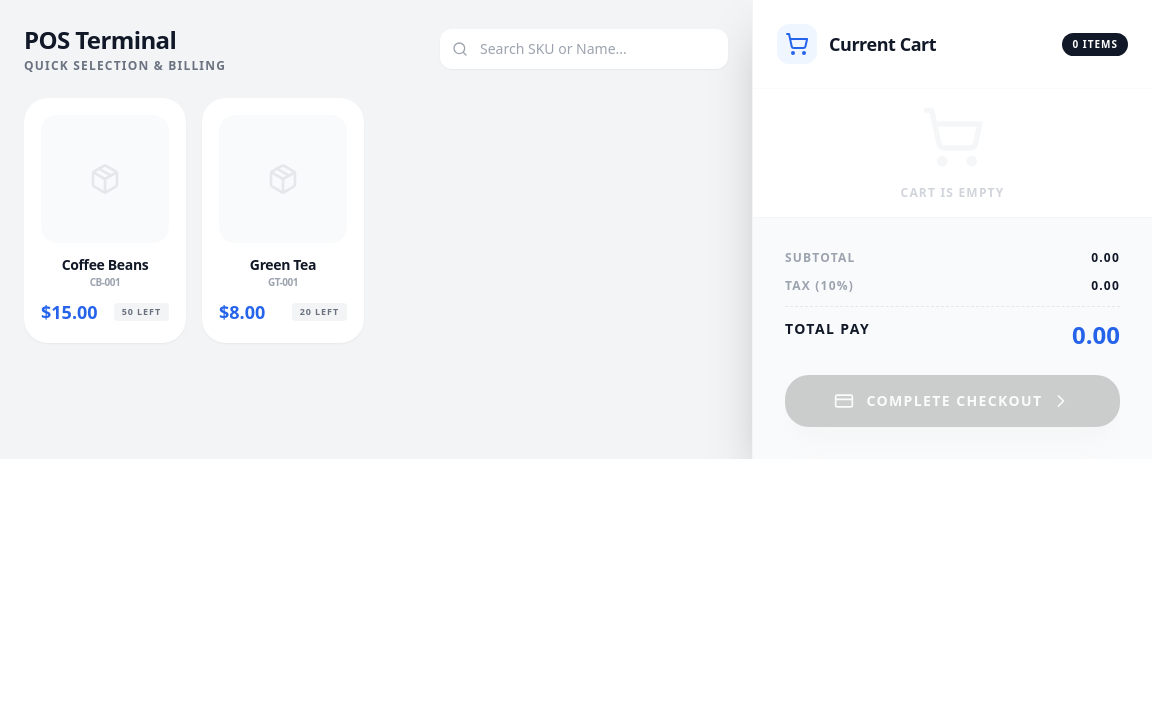
Test: POSPage — Story 10.2: POS Interface UI › shows checkout modal when checkout button is clicked
Check: the heading "Coffee Beans" is shown, box x1=62 y1=255 x2=148 y2=274
What coordinates should you click on to do the following:
click the text "Coffee Beans"
I would click on:
 (105, 220)
Its box is x1=24 y1=98 x2=186 y2=343.
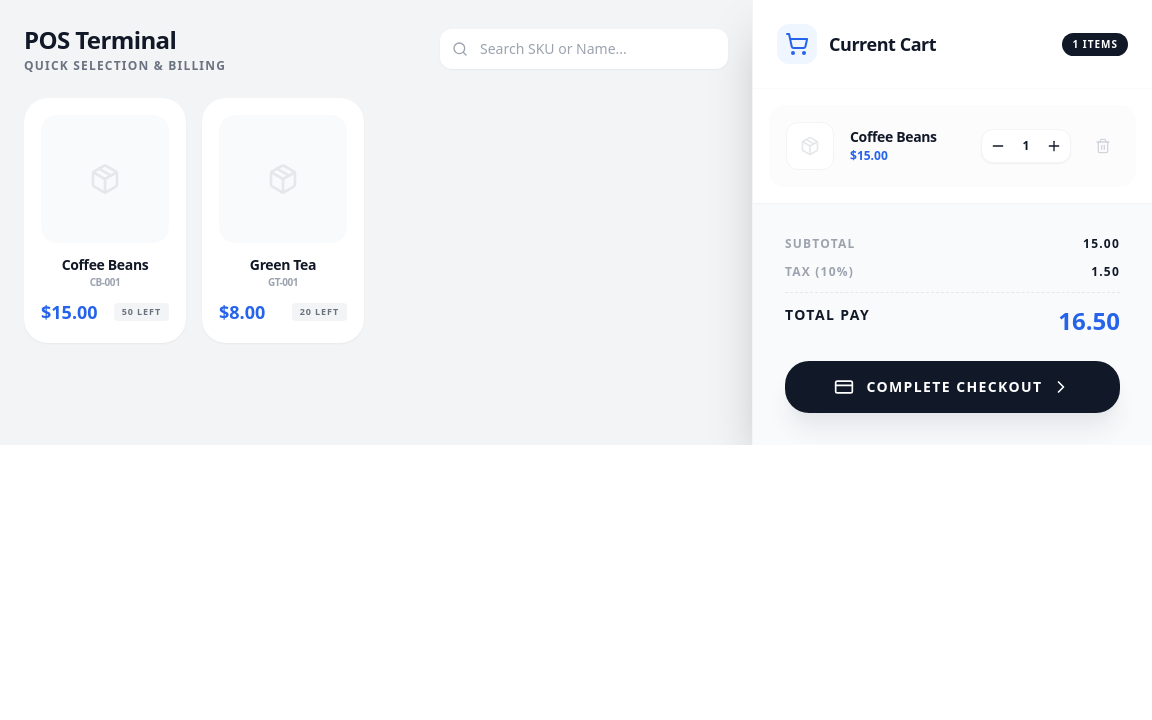
What coordinates should you click on to do the following:
click the button "Complete Checkout"
I would click on:
 (952, 387)
Its box is x1=785 y1=361 x2=1120 y2=413.
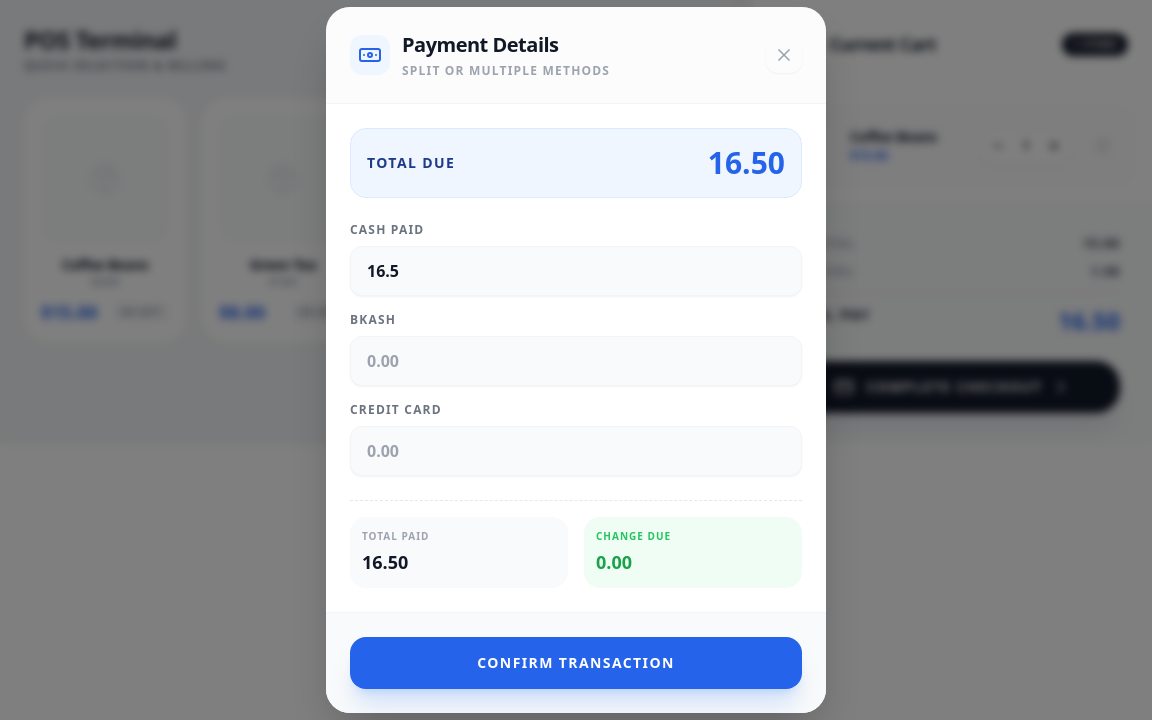
Check: the heading "Payment Details" is shown, box x1=402 y1=31 x2=558 y2=58
